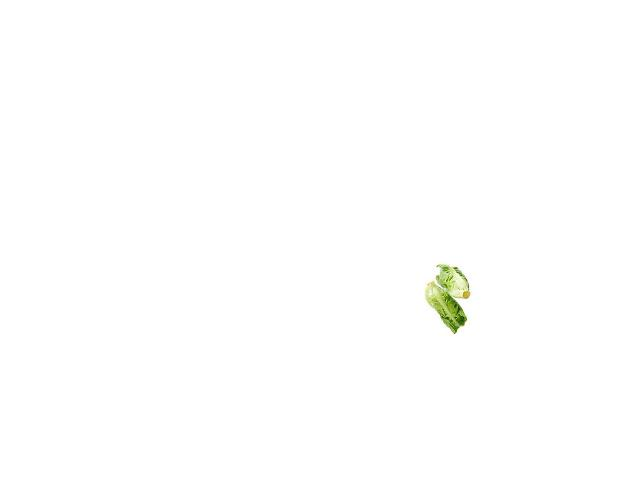lettuce: (423, 262, 478, 331)
